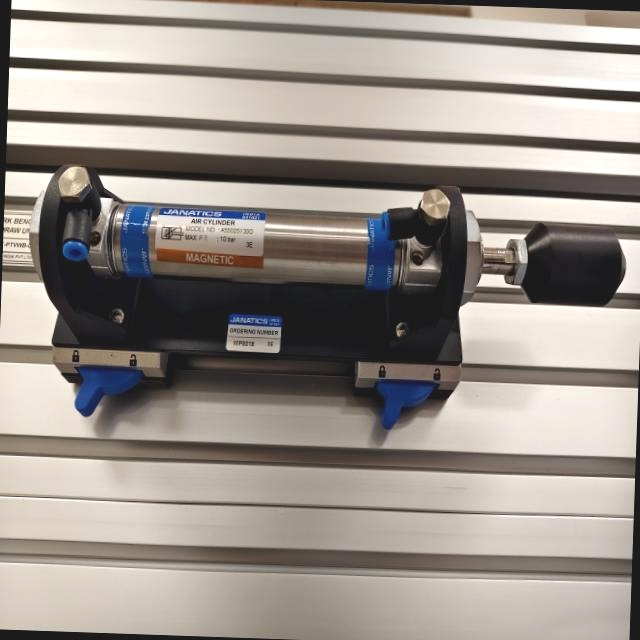double acting pneumatic cylinder: (21, 157, 626, 443)
push button: (21, 160, 628, 438)
